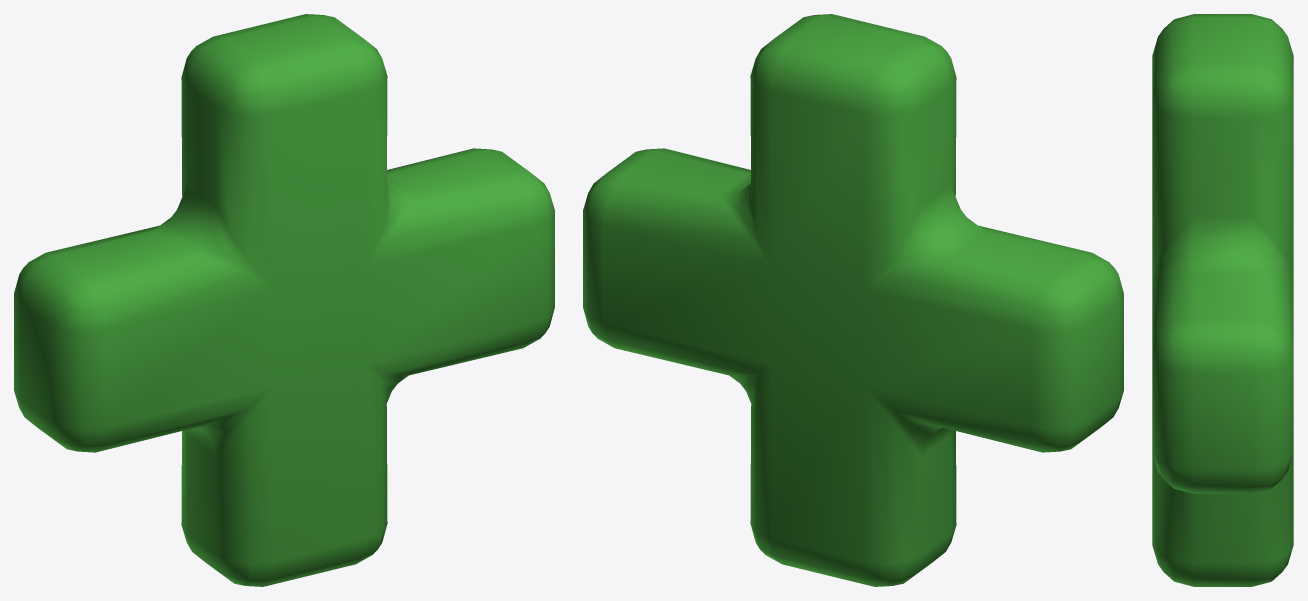
The model's file is HealthPoints.fbx.
3 views of the same model, side by side, from view 1: azimuth 30°, elevation 25°; view 2: azimuth 150°, elevation 25°; view 3: azimuth 270°, elevation 25° (orthographic).
Parts seen in each view (by area): view 1: HealthPoints; view 2: HealthPoints; view 3: HealthPoints.
Part boxes in pixels (<box>): HealthPoints: <box>14,14,554,586</box>; HealthPoints: <box>583,14,1123,586</box>; HealthPoints: <box>1152,14,1293,586</box>.
Size of the model in its own units: 604 by 604 by 149.
